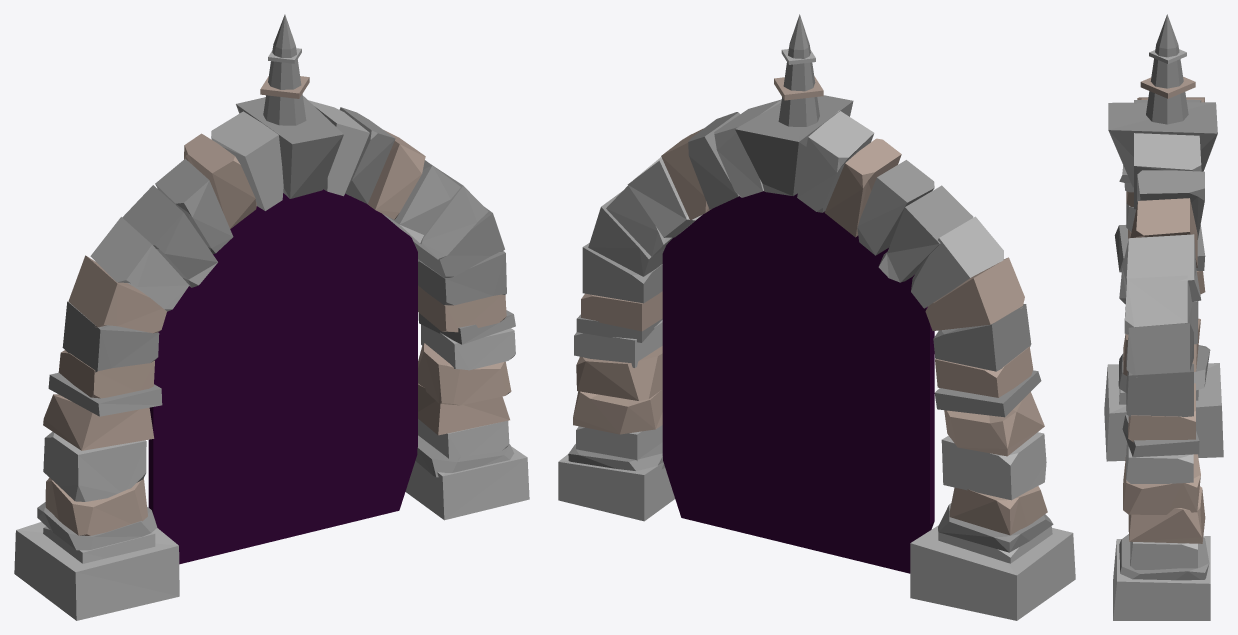
Rendered from portal.fbx.
3 renders of one model, left to right at view 1: azimuth 30°, elevation 25°; view 2: azimuth 150°, elevation 25°; view 3: azimuth 270°, elevation 25°, orthographic. The views are drawn at different scales.
Parts seen in each view (by area): view 1: Cube.000, Cube, Cylinder; view 2: Cube.000, Cube, Cylinder; view 3: Cube.000, Cylinder.
Part boxes in pixels (box(x1,y1,x2,y2)): Cube.000: box(14, 96, 529, 620); Cube: box(148, 189, 417, 564); Cylinder: box(260, 14, 309, 125); Cube.000: box(558, 95, 1075, 620); Cube: box(662, 191, 934, 573); Cylinder: box(774, 14, 823, 126); Cube.000: box(1104, 97, 1223, 620); Cylinder: box(1140, 14, 1195, 124).
Bounding box in the file's own units: 13.19 × 14.43 × 3.05.
